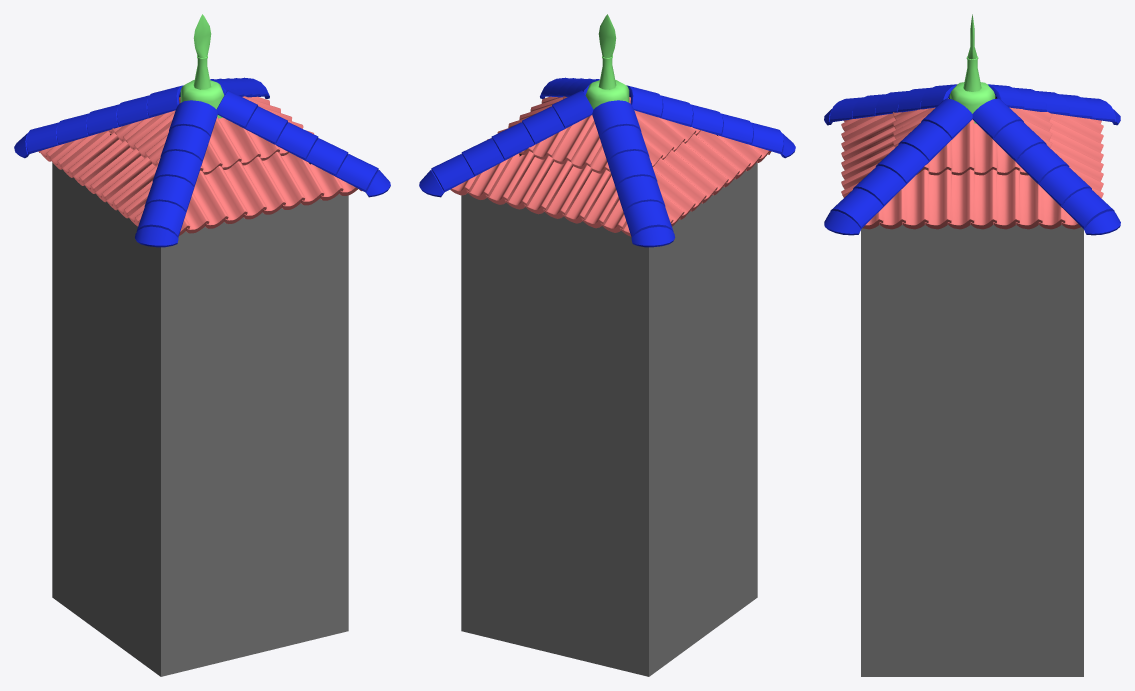
Rendered from Pillar.FBX.
3 renders of one model, left to right at view 1: azimuth 30°, elevation 25°; view 2: azimuth 150°, elevation 25°; view 3: azimuth 270°, elevation 25°, orthographic. The views are drawn at different scales.
Visible parts, largest first — view 1: Box018, Box615, Box022, ArcTilesLo008, ArcTilesLo005, ArcTilesLo007, WW, ArcTilesLo006; view 2: Box018, Box617, Box022, ArcTilesLo007, ArcTilesLo006, ArcTilesLo008, WW, ArcTilesLo005; view 3: Box018, Box616, ArcTilesLo005, ArcTilesLo006, Box615, Box617, ArcTilesLo008, ArcTilesLo007, WW.
Boxes of the visible parts, left/top/right/bottom form: Box018: left=52, top=162, right=348, bottom=676; Box615: left=179, top=117, right=361, bottom=235; Box022: left=38, top=110, right=175, bottom=226; ArcTilesLo008: left=135, top=100, right=217, bottom=247; ArcTilesLo005: left=216, top=90, right=390, bottom=197; ArcTilesLo007: left=14, top=85, right=183, bottom=158; WW: left=180, top=14, right=224, bottom=118; ArcTilesLo006: left=210, top=77, right=269, bottom=98; Box018: left=461, top=162, right=757, bottom=676; Box617: left=450, top=115, right=631, bottom=236; Box022: left=634, top=110, right=771, bottom=226; ArcTilesLo007: left=592, top=100, right=675, bottom=247; ArcTilesLo006: left=419, top=90, right=593, bottom=197; ArcTilesLo008: left=626, top=85, right=795, bottom=158; WW: left=585, top=14, right=629, bottom=109; ArcTilesLo005: left=540, top=77, right=599, bottom=98; Box018: left=861, top=224, right=1083, bottom=676; Box616: left=862, top=119, right=1080, bottom=229; ArcTilesLo005: left=824, top=98, right=972, bottom=235; ArcTilesLo006: left=972, top=98, right=1120, bottom=235; Box615: left=841, top=107, right=935, bottom=197; Box617: left=1009, top=107, right=1103, bottom=198; ArcTilesLo008: left=824, top=84, right=956, bottom=125; ArcTilesLo007: left=988, top=84, right=1120, bottom=125; WW: left=949, top=14, right=995, bottom=123.
Size of the model in its own units: 51.33 by 118 by 51.33.
